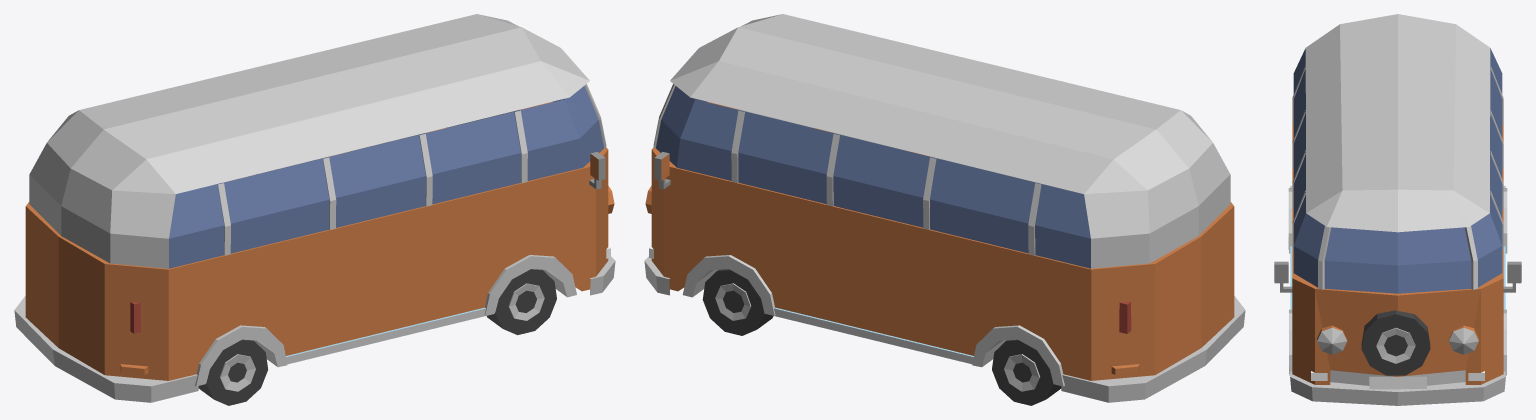
The model's file is SM_bus2fbx.fbx.
The picture shows the model from 3 angles, left to right: view 1: azimuth 30°, elevation 25°; view 2: azimuth 150°, elevation 25°; view 3: azimuth 270°, elevation 25°; orthographic projection. The views are drawn at different scales.
Visible parts, largest first — view 1: polySurface856; view 2: polySurface856; view 3: polySurface856.
Boxes of the visible parts, box(x1,y1,x2,y2) form: polySurface856: box(14, 14, 615, 405); polySurface856: box(644, 14, 1245, 405); polySurface856: box(1274, 14, 1521, 405).
Size of the model in its own units: 128 by 57.42 by 59.47.
